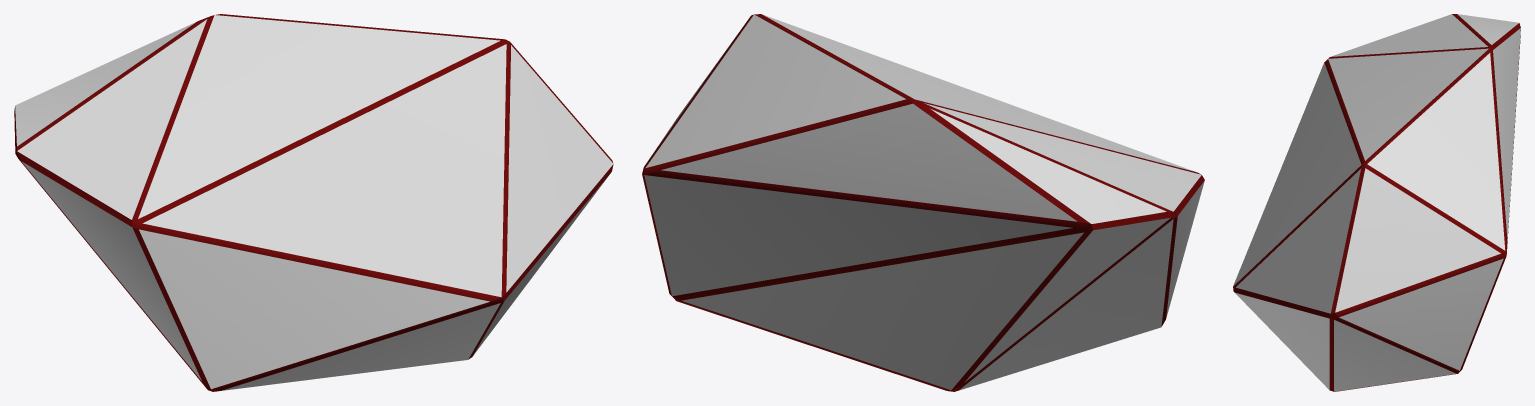
Rendered from Rocker.fbx.
The picture shows the model from 3 angles, left to right: view 1: azimuth 30°, elevation 25°; view 2: azimuth 150°, elevation 25°; view 3: azimuth 270°, elevation 25°; orthographic projection. The views are drawn at different scales.
Parts seen in each view (by area): view 1: Rocker; view 2: Rocker; view 3: Rocker.
Boxes of the visible parts, box(x1,y1,x2,y2) form: Rocker: box(14, 14, 613, 391); Rocker: box(642, 14, 1204, 391); Rocker: box(1233, 14, 1520, 391).
Size of the model in its own units: 293 by 169 by 160.
